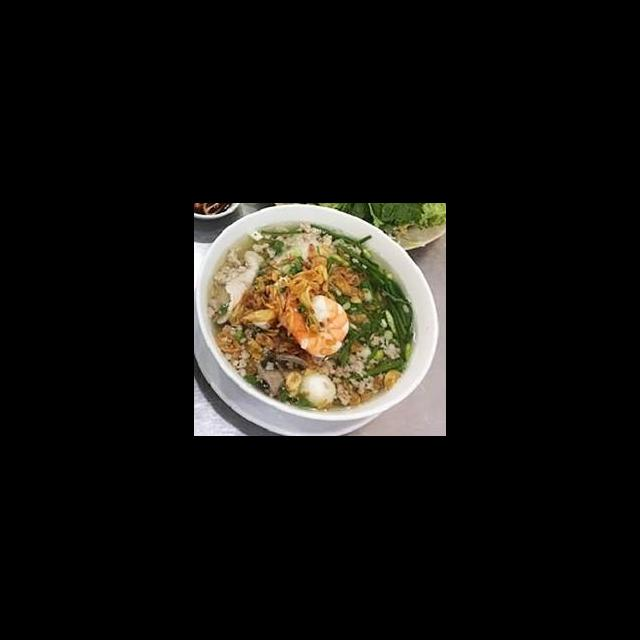thit bam: (225, 319, 322, 395), (252, 224, 316, 264), (356, 218, 398, 254)
tom: (273, 278, 352, 350)
trung: (222, 298, 266, 336)
